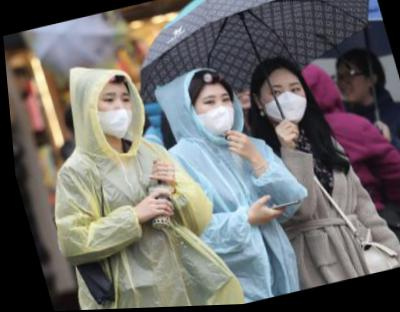NONE: (333, 67, 369, 108)
OK: (258, 77, 312, 131), (192, 88, 241, 143)
WRONG: (89, 83, 142, 143)
